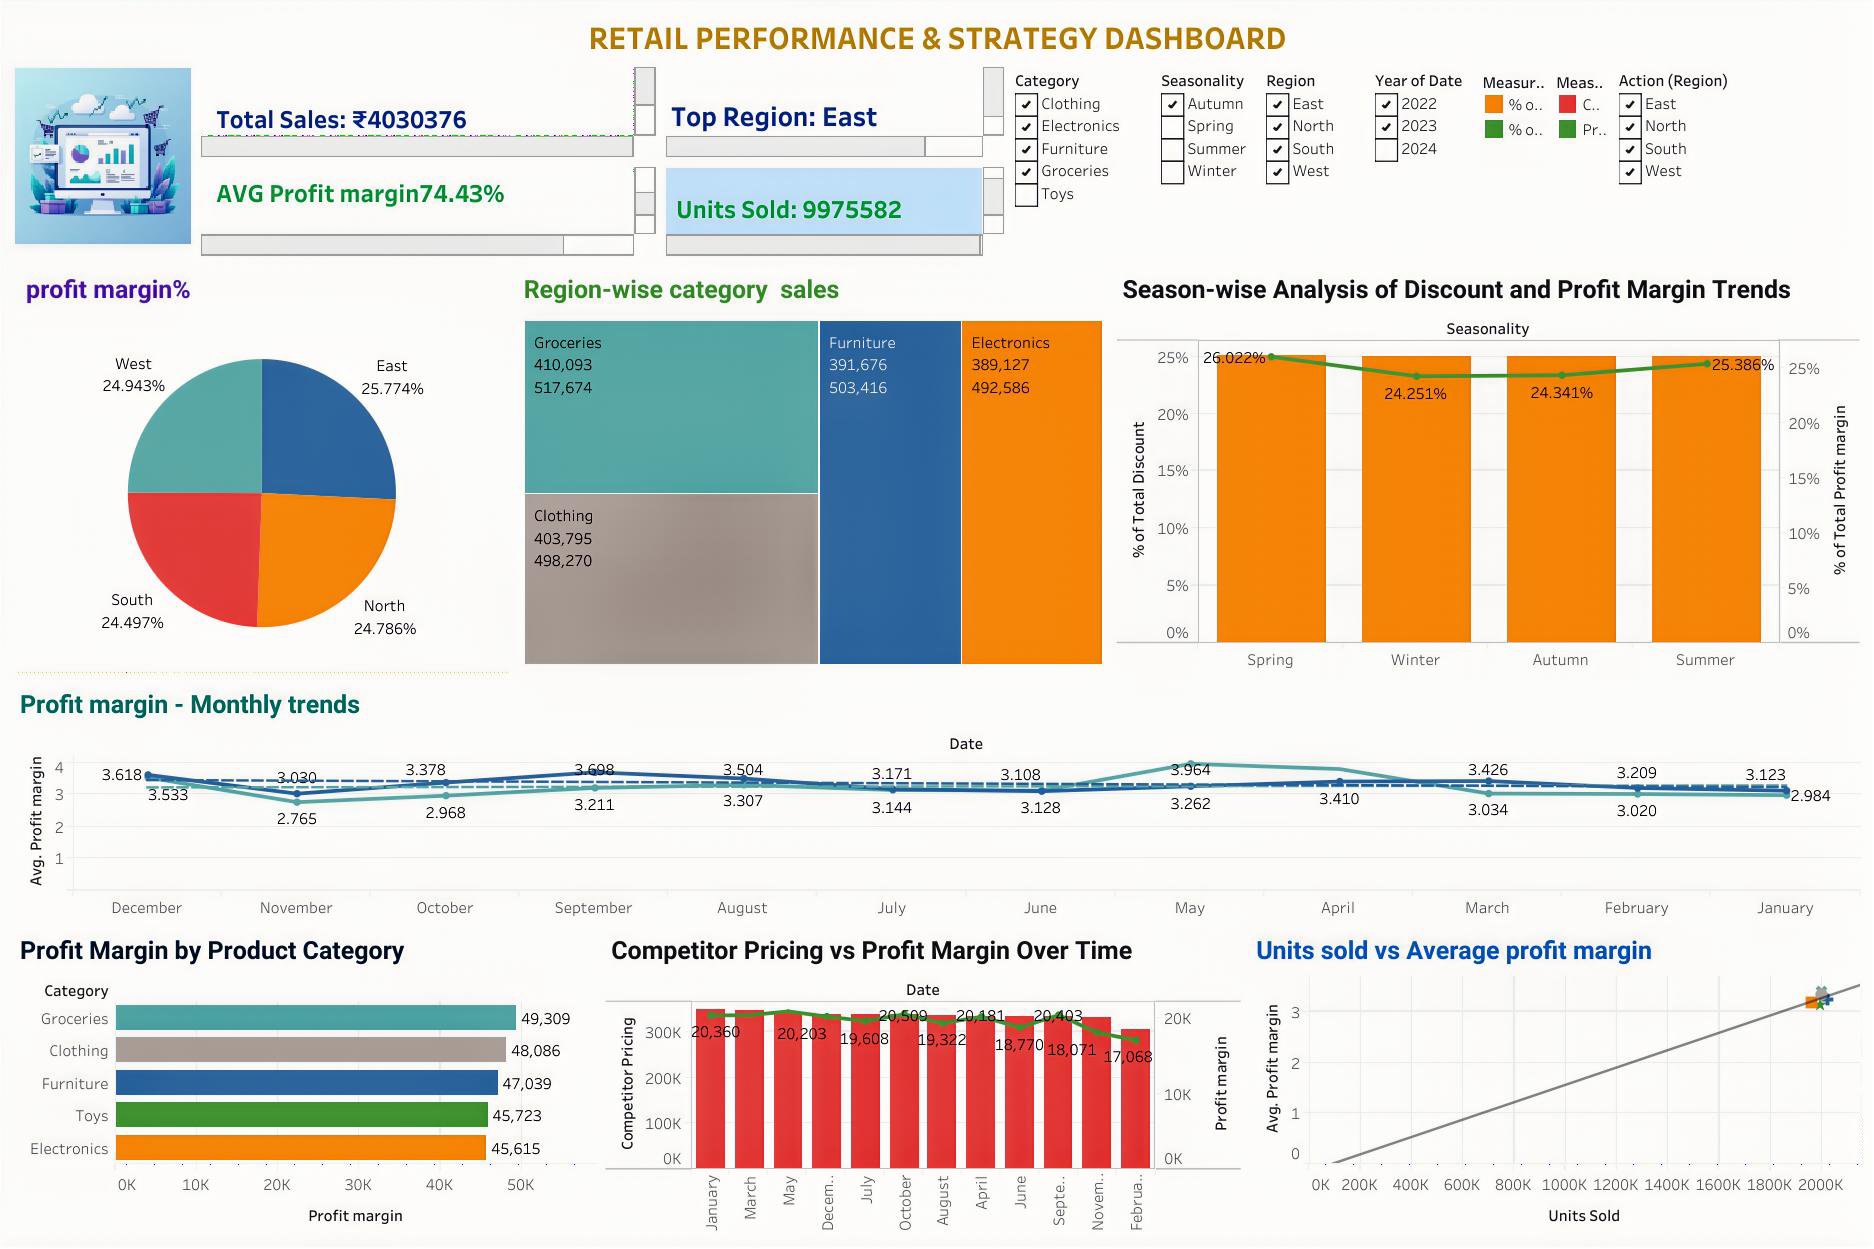

This screenshot's page, from the dashboard's own definition file:
{"tool":"tableau","page":{"name":"Dashboard 1","canvas":[1500,1000],"ordinal":0},"visuals":[{"type":"title","box":[8,8,1484,49]},{"type":"image","param":"Image/Flux_Dev_A_highresolution_2D_flat_vector_illustration_of_a_mod_0 (1).jpg","box":[8,57,149,159]},{"type":"worksheet","title":"Total sales","mark":"Text","box":[157,57,372,79.5]},{"type":"worksheet","title":"Sheet 10","mark":"Automatic","box":[529,57,279,79.5]},{"type":"filter","title":"treemap","param":"[federated.05pk9xf0zclgu615jlt7c1jezf5b].[none:Category:nk]","box":[808,57,117,159]},{"type":"filter","title":"treemap","param":"[federated.05pk9xf0zclgu615jlt7c1jezf5b].[none:Seasonality:nk]","box":[925,57,84,159]},{"type":"filter","title":"treemap","param":"[federated.05pk9xf0zclgu615jlt7c1jezf5b].[none:Region:nk]","box":[1009,57,87,159]},{"type":"filter","title":"treemap","param":"[federated.05pk9xf0zclgu615jlt7c1jezf5b].[yr:Date:ok]","box":[1096,57,85,159]},{"type":"legend","title":"Dual axis","param":"[federated.05pk9xf0zclgu615jlt7c1jezf5b].[:Measure Names]","box":[1181,57,59,159]},{"type":"legend","title":"Sheet 11","param":"[federated.05pk9xf0zclgu615jlt7c1jezf5b].[:Measure Names]","box":[1240,57,51,159]},{"type":"filter","title":"LIne","param":"[federated.05pk9xf0zclgu615jlt7c1jezf5b].[Action (Region)]","box":[1291,57,168,159]},{"type":"worksheet","title":"avg profit margin","mark":"Text","box":[157,136.5,372,79.5]},{"type":"worksheet","title":"Avg Units sold","mark":"Text","box":[529,136.5,279,79.5]},{"type":"worksheet","title":"pie","mark":"Pie","box":[8,216,403,329.2]},{"type":"worksheet","title":"treemap","mark":"Automatic","box":[411,216,479,329.2]},{"type":"worksheet","title":"Dual axis","mark":"Bar","rows":["Discount","Profit_margin"],"cols":["Seasonality"],"box":[890,216,602,329.2]},{"type":"worksheet","title":"LIne","mark":"Line","rows":["Profit_margin"],"cols":["Date"],"box":[8,545.2,1484,195.1]},{"type":"worksheet","title":"Bar","mark":"Automatic","rows":["Category"],"cols":["Profit_margin"],"box":[8,740.3,473,251.7]},{"type":"worksheet","title":"Sheet 11","mark":"Bar","rows":["Competitor Pricing","Profit_margin"],"cols":["Date"],"box":[481,740.3,516.3,251.7]},{"type":"worksheet","title":"Sheet 3","mark":"Automatic","rows":["Profit_margin"],"cols":["Units Sold"],"box":[997.3,740.3,494.7,251.7]}]}

Visuals, with their boxes in screenshot pixels (x1, y1, x2, y2), scaled from the page's 1500x1000 canvas onto the 1874x1249 screenshot:
title: (10, 10, 1864, 71)
image: (10, 71, 196, 270)
"Total sales" worksheet (Text marks): (196, 71, 661, 170)
"Sheet 10" worksheet: (661, 71, 1009, 170)
"treemap" filter: (1009, 71, 1156, 270)
"treemap" filter: (1156, 71, 1261, 270)
"treemap" filter: (1261, 71, 1369, 270)
"treemap" filter: (1369, 71, 1475, 270)
"Dual axis" legend: (1475, 71, 1549, 270)
"Sheet 11" legend: (1549, 71, 1613, 270)
"LIne" filter: (1613, 71, 1823, 270)
"avg profit margin" worksheet (Text marks): (196, 170, 661, 270)
"Avg Units sold" worksheet (Text marks): (661, 170, 1009, 270)
"pie" worksheet (Pie marks): (10, 270, 513, 681)
"treemap" worksheet: (513, 270, 1112, 681)
"Dual axis" worksheet (Bar marks): (1112, 270, 1864, 681)
"LIne" worksheet (Line marks): (10, 681, 1864, 925)
"Bar" worksheet: (10, 925, 601, 1239)
"Sheet 11" worksheet (Bar marks): (601, 925, 1246, 1239)
"Sheet 3" worksheet: (1246, 925, 1864, 1239)
